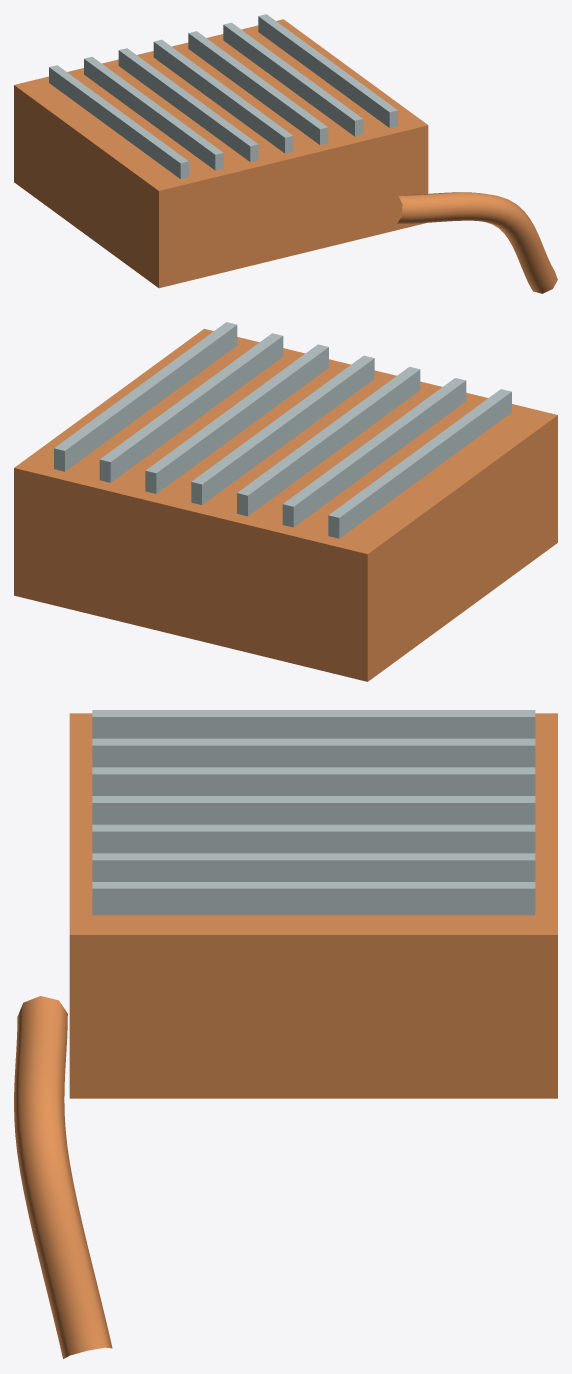
File: car-electronics.glb
The picture shows the model from 3 angles, top to bottom: view 1: azimuth 30°, elevation 25°; view 2: azimuth 150°, elevation 25°; view 3: azimuth 270°, elevation 25°; orthographic projection. The views are drawn at different scales.
Parts seen in each view (by area): view 1: Power electronics enclosure, Inverter cooling fin (×7), High-voltage cable; view 2: Power electronics enclosure, Inverter cooling fin (×7); view 3: Power electronics enclosure, Inverter cooling fin (×7), High-voltage cable.
Boxes of the visible parts, x1,y1,x2,y2 form: Power electronics enclosure: [14, 19, 428, 288]; Inverter cooling fin (×7): [49, 14, 397, 178]; High-voltage cable: [394, 192, 557, 293]; Power electronics enclosure: [14, 328, 557, 681]; Inverter cooling fin (×7): [54, 322, 511, 538]; Power electronics enclosure: [69, 713, 557, 1098]; Inverter cooling fin (×7): [92, 710, 535, 915]; High-voltage cable: [14, 996, 112, 1358].
Size of the model in its own units: 0.8637 by 0.4375 by 0.6017.
